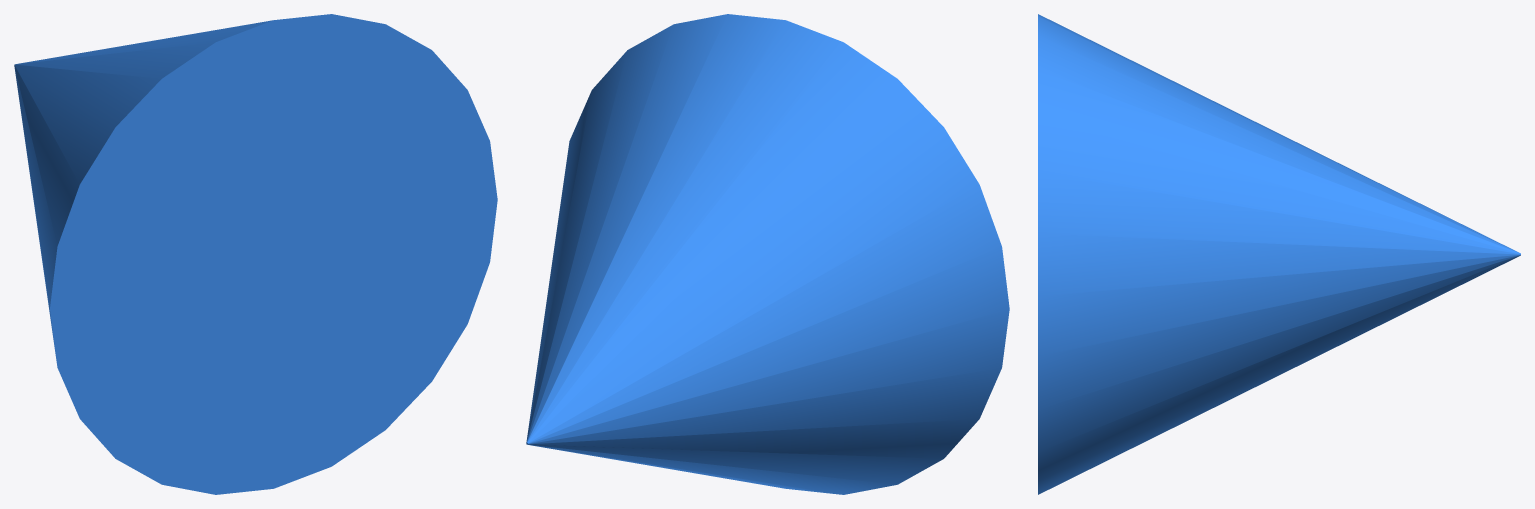
The model's file is vec_031.dae.
3 renders of one model, left to right at view 1: azimuth 30°, elevation 25°; view 2: azimuth 150°, elevation 25°; view 3: azimuth 270°, elevation 25°, orthographic. The views are drawn at different scales.
Parts seen in each view (by area): view 1: Model; view 2: Model; view 3: Model.
Part boxes in pixels (x1,y1,x2,y2): Model: (14,14,497,494); Model: (526,14,1009,494); Model: (1038,14,1520,494).
Size of the model in its own units: 1 by 1 by 1.
